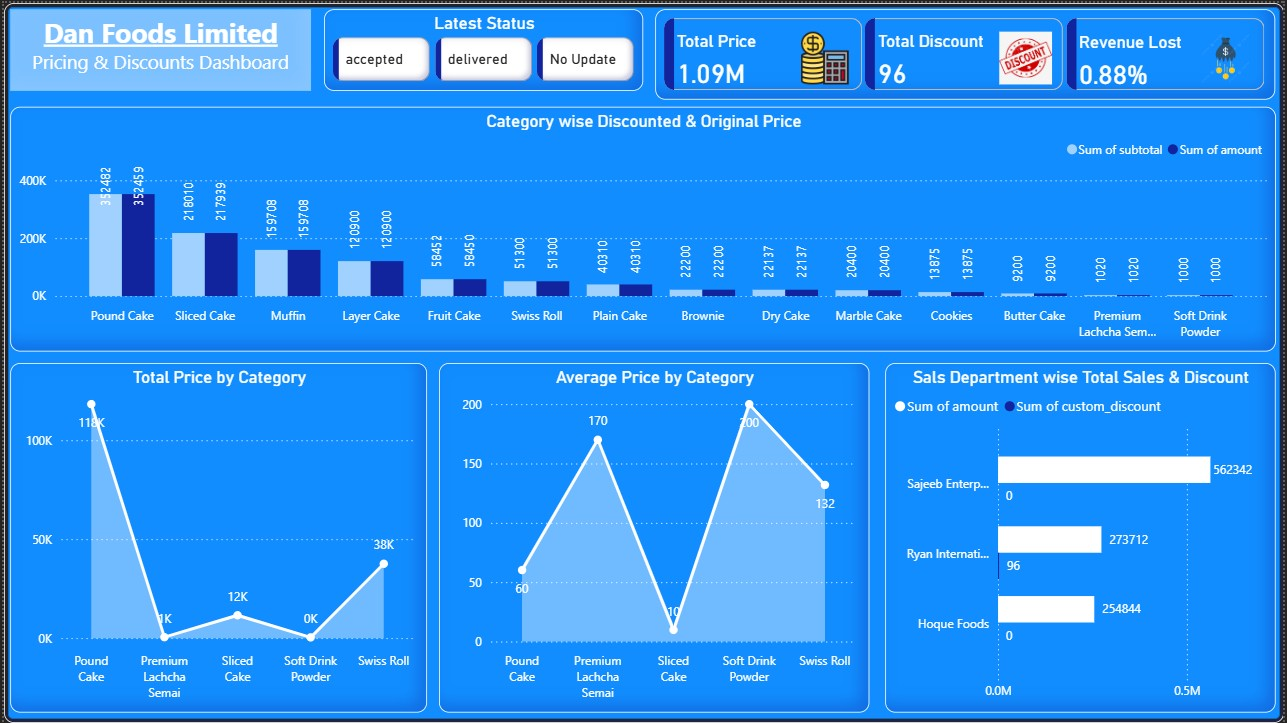

The page's visual inventory and layout, read from the dashboard file:
{"tool":"powerbi","page":{"name":"Pricing & Discounts Dashboard","canvas":[1280,720],"ordinal":3},"visuals":[{"type":"shape","box":[0,0,1280,720],"z":0},{"type":"textbox","box":[6.1,6.1,300.8,81.9],"z":1000},{"type":"clusteredColumnChart","title":"Category wise Discounted & Original Price","fields":{"Category":["Analytics Data json.product_category_name"],"Y":["Sum(Analytics Data json.subtotal)","Sum(Analytics Data json.amount)"]},"box":[6.1,103.9,1265.6,244.6],"z":3000},{"type":"lineChart","title":"Total Price by Category","fields":{"Category":["Analytics Data json.product_category_name","Analytics Data json.product_name"],"Y":["Sum(Analytics Data json.unit_price)"]},"box":[6.1,359.5,417,349.7],"z":8000},{"type":"advancedSlicerVisual","title":"Latest Status","fields":{"Values":["Analytics Data json.latest_status"]},"box":[320.4,6.1,319.2,81.9],"z":9000},{"type":"cardVisual","fields":{"Data":["Sum(Analytics Data json.subtotal)","Sum(Analytics Data json.custom_discount)","Analytics Data json.Revenue_Lost_for_Discount"]},"box":[651.8,6.1,620,90.5],"z":9001},{"type":"clusteredBarChart","title":"Sals Department wise Total Sales & Discount","fields":{"Category":["Analytics Data json.seller_department_name"],"Y":["Sum(Analytics Data json.amount)","Sum(Analytics Data json.custom_discount)"]},"box":[881.7,359.5,390.1,349.7],"z":9002},{"type":"lineChart","title":"Average Price by Category","fields":{"Category":["Analytics Data json.product_category_name","Analytics Data json.product_name"],"Y":["Avg(Analytics Data json.unit_price)"]},"box":[435.3,359.5,430.4,349.7],"z":9003}]}

Visuals, with their boxes in screenshot pixels (x1, y1, x2, y2), scaled from the page's 1280x720 canvas onto the 1287x723 screenshot:
shape: 0/0/1286/722
textbox: 6/6/309/88
"Category wise Discounted & Original Price" clusteredColumnChart: 6/104/1279/350
"Total Price by Category" lineChart: 6/361/425/712
"Latest Status" advancedSlicerVisual: 322/6/643/88
cardVisual - Sum(Analytics Data json.subtotal) x Sum(Analytics Data json.custom_discount): 655/6/1279/97
"Sals Department wise Total Sales & Discount" clusteredBarChart: 887/361/1279/712
"Average Price by Category" lineChart: 438/361/870/712
